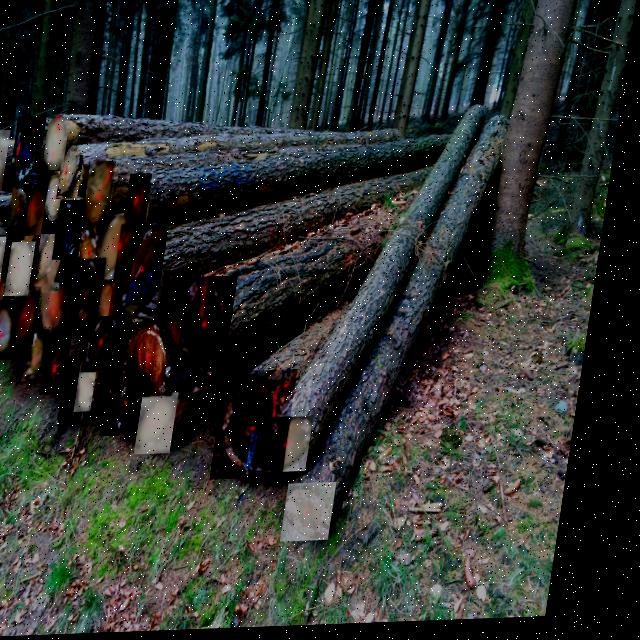wood-log: (225, 372, 309, 482), (176, 278, 247, 398), (117, 224, 176, 331), (132, 323, 192, 399), (113, 358, 159, 437), (298, 485, 352, 544), (276, 419, 327, 475), (148, 394, 191, 456), (15, 116, 51, 187), (74, 260, 114, 321), (88, 162, 122, 231), (101, 216, 137, 281), (41, 235, 74, 295), (52, 332, 83, 395), (93, 317, 127, 373), (60, 201, 92, 260), (19, 287, 50, 346), (0, 300, 29, 361), (48, 275, 77, 334), (13, 242, 44, 297), (130, 175, 158, 231), (13, 184, 40, 241), (47, 118, 74, 171), (28, 183, 54, 236), (33, 330, 59, 382), (86, 363, 109, 413), (62, 156, 88, 199), (86, 228, 108, 273), (0, 130, 15, 192), (0, 276, 10, 351), (0, 237, 14, 284), (0, 272, 14, 308), (0, 195, 2, 246)
